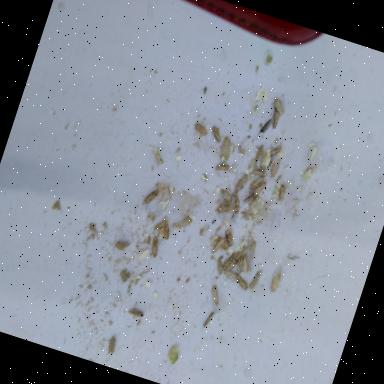pbw: (214, 198, 234, 220), (208, 124, 228, 144), (143, 186, 161, 208), (234, 170, 250, 192), (207, 284, 223, 306), (174, 214, 193, 232), (191, 119, 210, 136), (238, 255, 255, 274), (248, 268, 262, 291), (220, 228, 236, 248), (248, 174, 264, 194), (213, 161, 234, 176), (147, 236, 161, 258), (221, 250, 235, 272), (269, 273, 283, 294), (219, 136, 232, 158), (258, 116, 272, 136), (214, 235, 231, 251), (269, 108, 281, 130), (234, 275, 250, 291), (267, 143, 282, 160), (252, 180, 266, 198), (236, 242, 250, 260), (213, 257, 226, 276), (211, 236, 224, 255), (231, 195, 244, 214), (234, 256, 246, 276), (202, 310, 214, 330), (276, 184, 288, 204), (106, 335, 118, 355), (221, 268, 238, 282), (225, 256, 238, 274), (218, 188, 234, 202), (154, 217, 168, 233), (247, 240, 258, 260), (160, 222, 172, 240), (114, 240, 130, 253), (254, 144, 264, 164), (270, 158, 280, 178), (243, 191, 256, 206), (127, 308, 144, 318), (236, 145, 248, 156), (252, 170, 264, 178)
